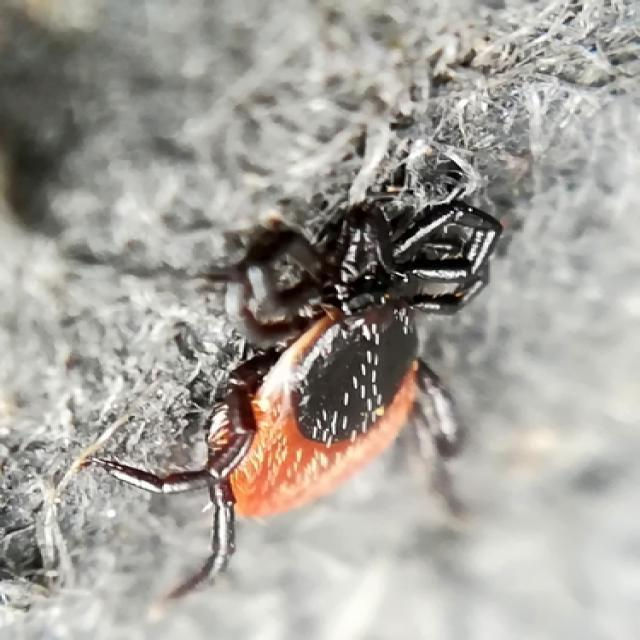Ixodes Ricinus-F: (82, 142, 505, 600)
